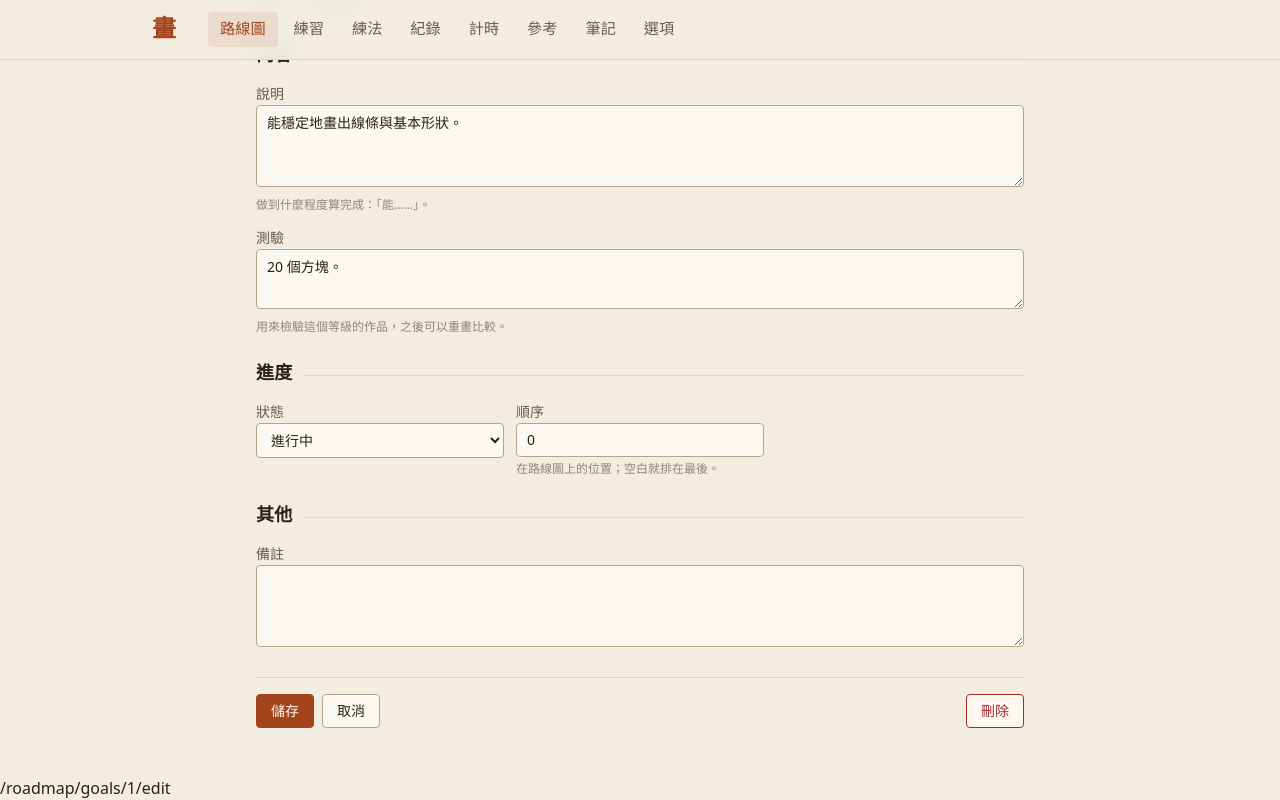
Test case: the goal form › shows the server refusing to delete a goal that has stages, and stays
(page scrolled)
Click the button "刪除" at (995, 711), box x1=966 y1=694 x2=1024 y2=728
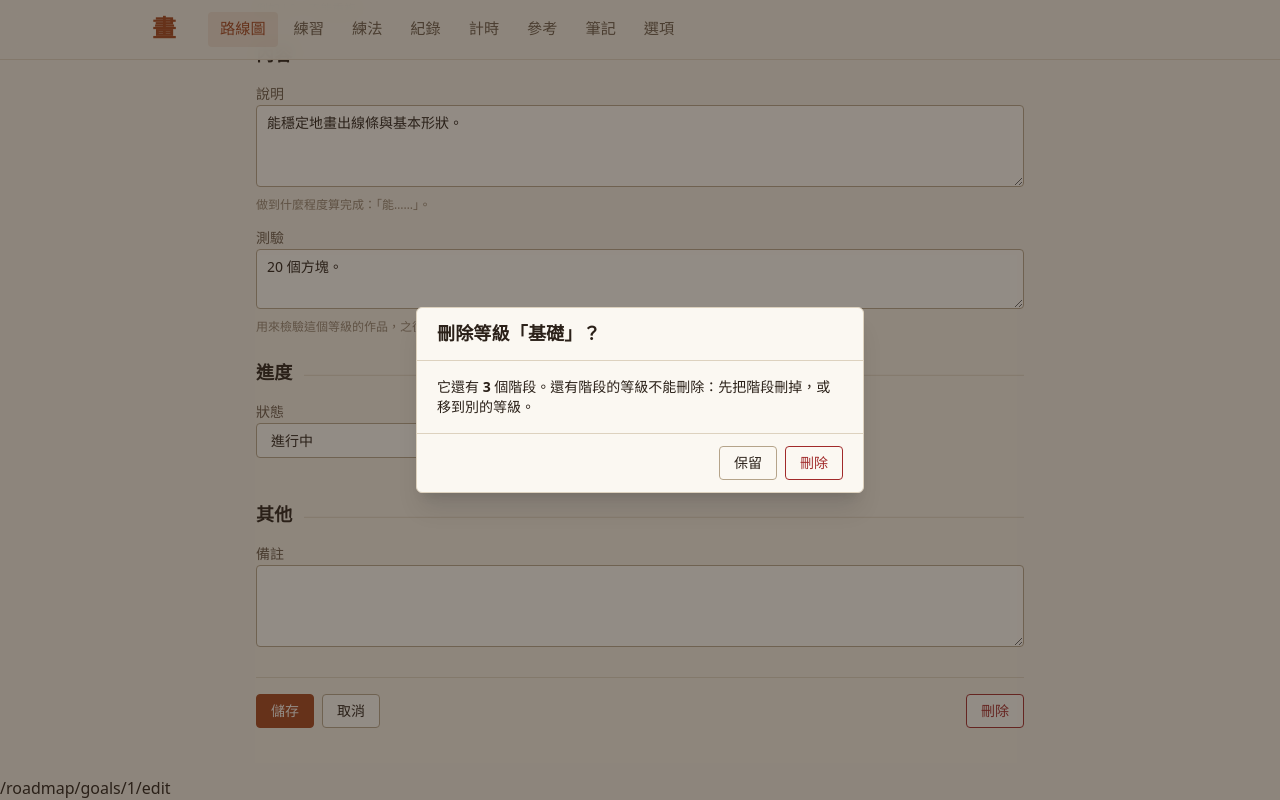
Result: the dialog shows "3 個階段" at x1=416 y1=307 x2=864 y2=493
Click the button "刪除" at (814, 463), box x1=785 y1=446 x2=843 y2=480
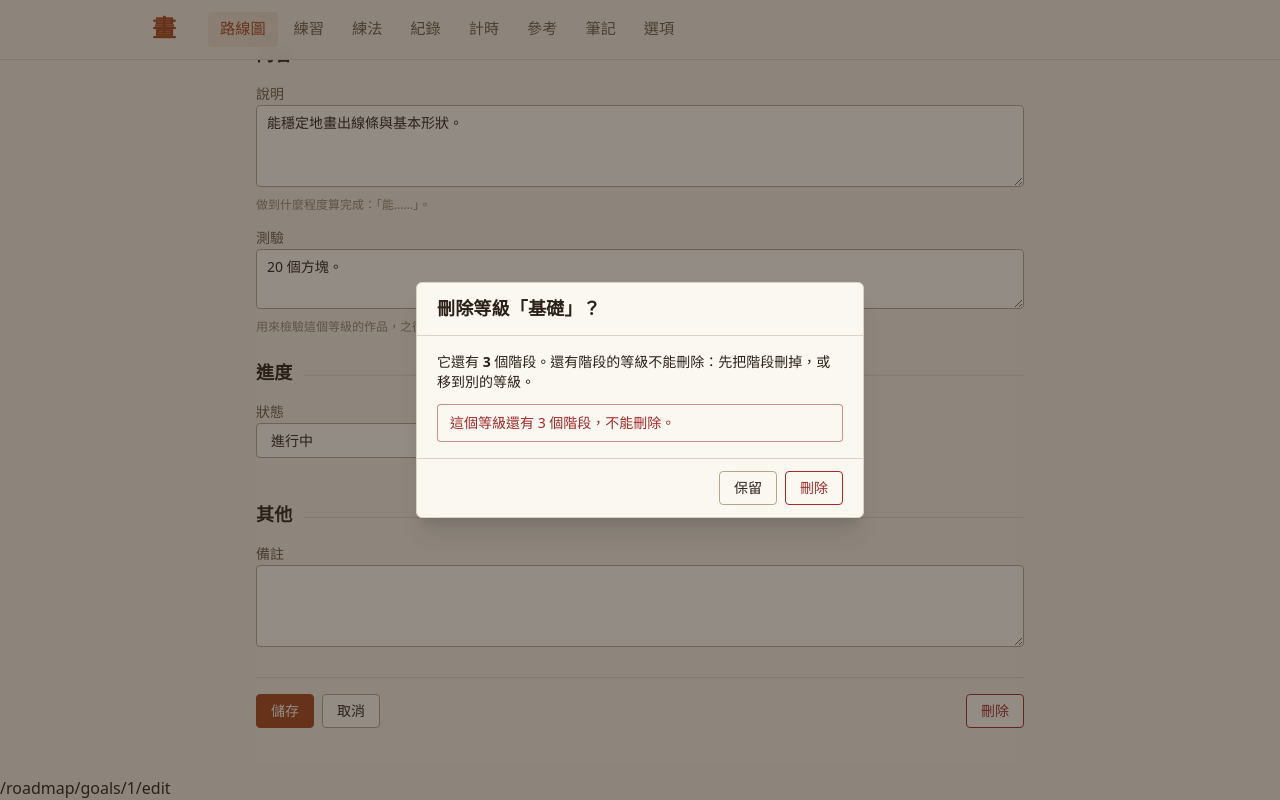
Expected: the text with test id "location" reads "/roadmap/goals/1/edit", x1=0 y1=777 x2=171 y2=799
Result: the text "這個等級還有 3 個階段，不能刪除。" is shown at x1=437 y1=404 x2=843 y2=442
